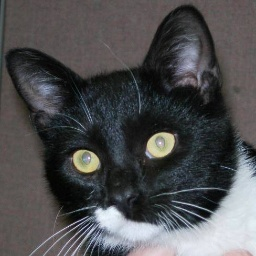cat: (16, 12, 256, 256)
